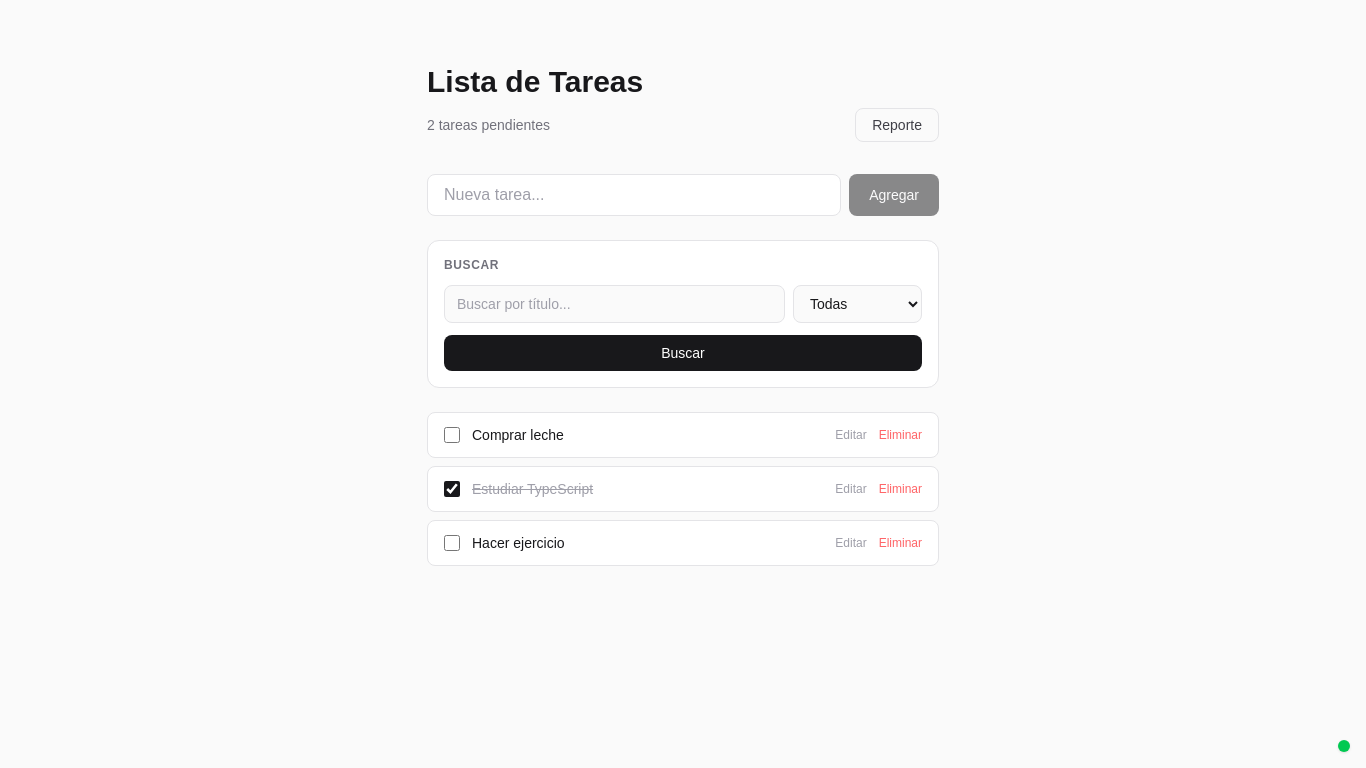
Scenario: ListaTareas — búsqueda › muestra el modal cuando no hay resultados
Check: the text "Comprar leche" is shown, box [472,427,564,443]
Type "tarea_inexistente_xyz" into the field labelled "Buscar por título" at (614, 304), box [444,285,785,323]
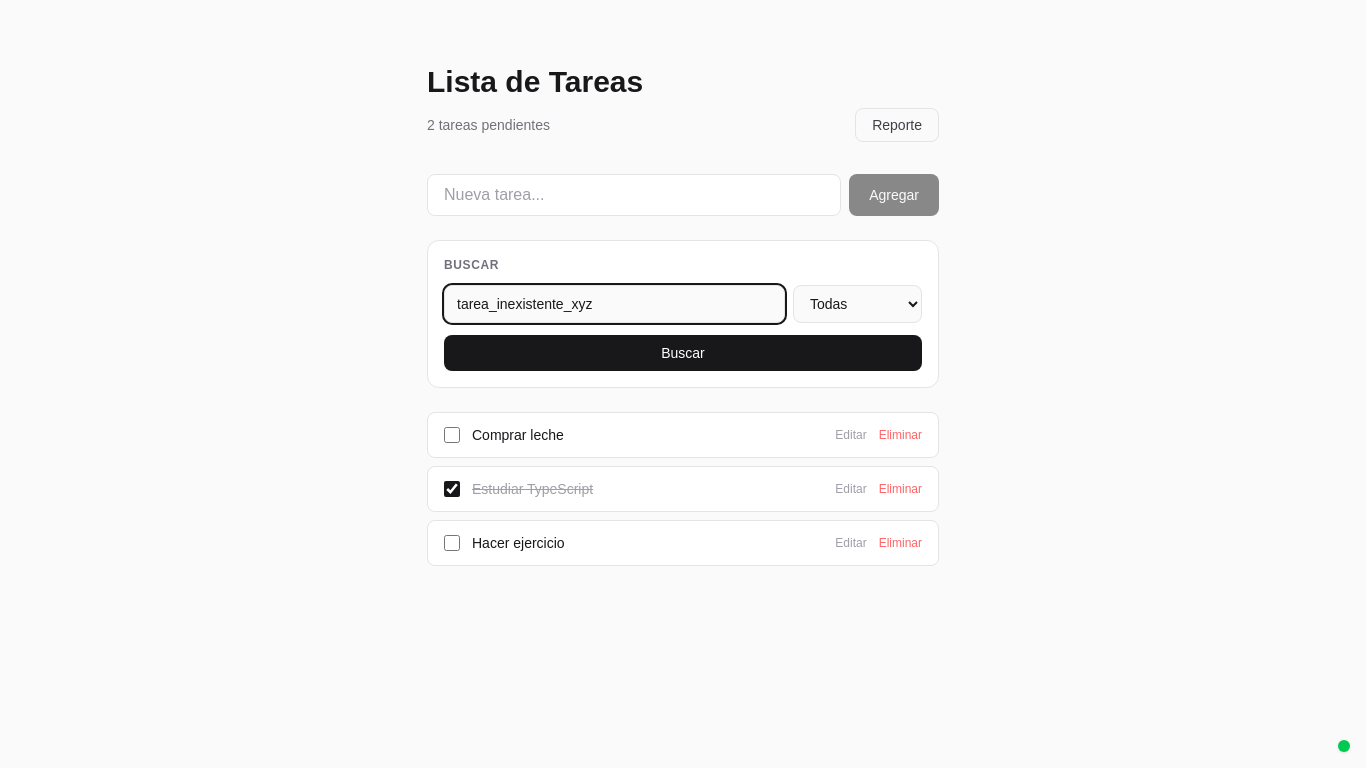
Click the button "Buscar" at (683, 353), box [444,335,922,371]
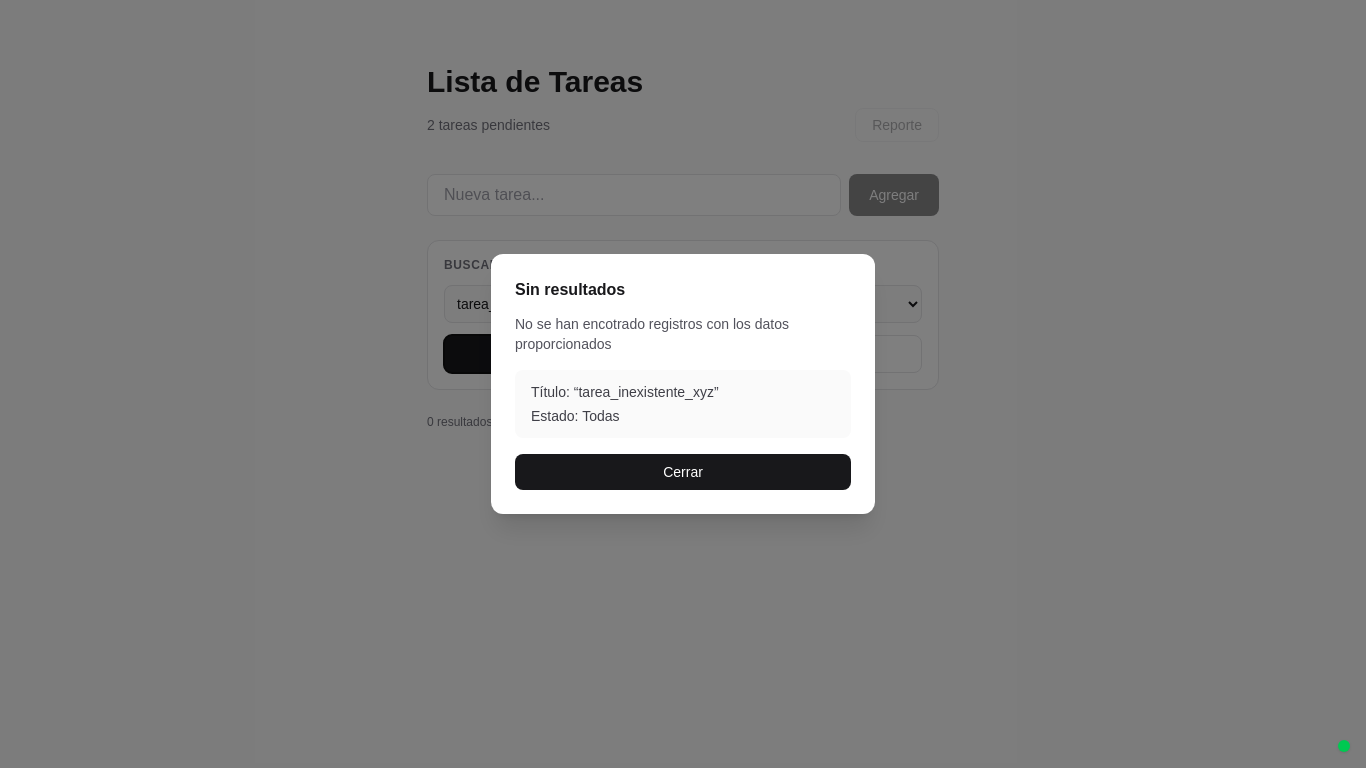
Check: the dialog is shown
Check: the dialog shows "No se han encotrado registros con los datos proporcionados", box [515,316,789,352]
Check: the dialog shows "tarea_inexistente_xyz", box [578,384,714,400]
